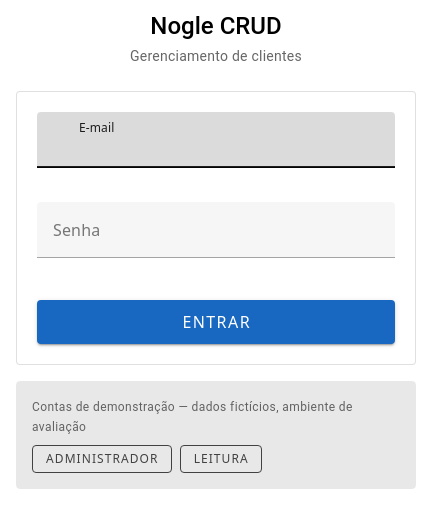
Scenario: credenciais de demonstração › preenche o formulário ao escolher um perfil
Click the button "Administrador". click: x=102, y=459
box: [32,445,172,473]
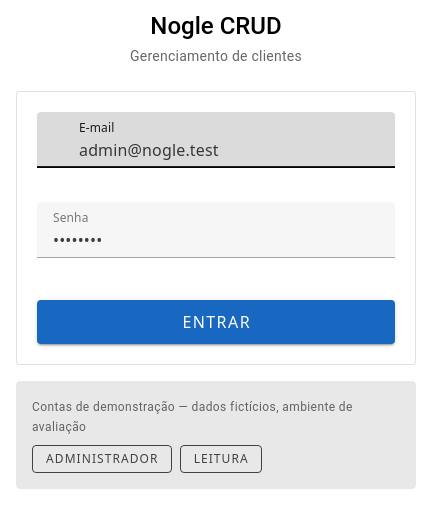
Check: the field labelled "E-mail" holds "admin@nogle.test", box [73,112,395,168]
Check: the password field labelled "Senha" holds "senha123", box [37,202,359,258]
